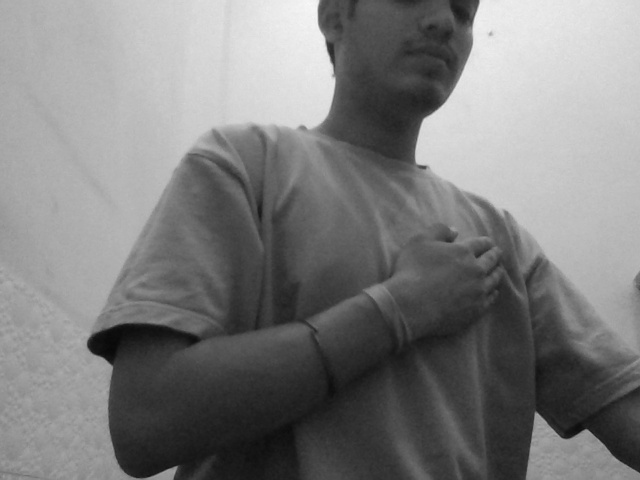Sorry: (371, 193, 561, 367)
